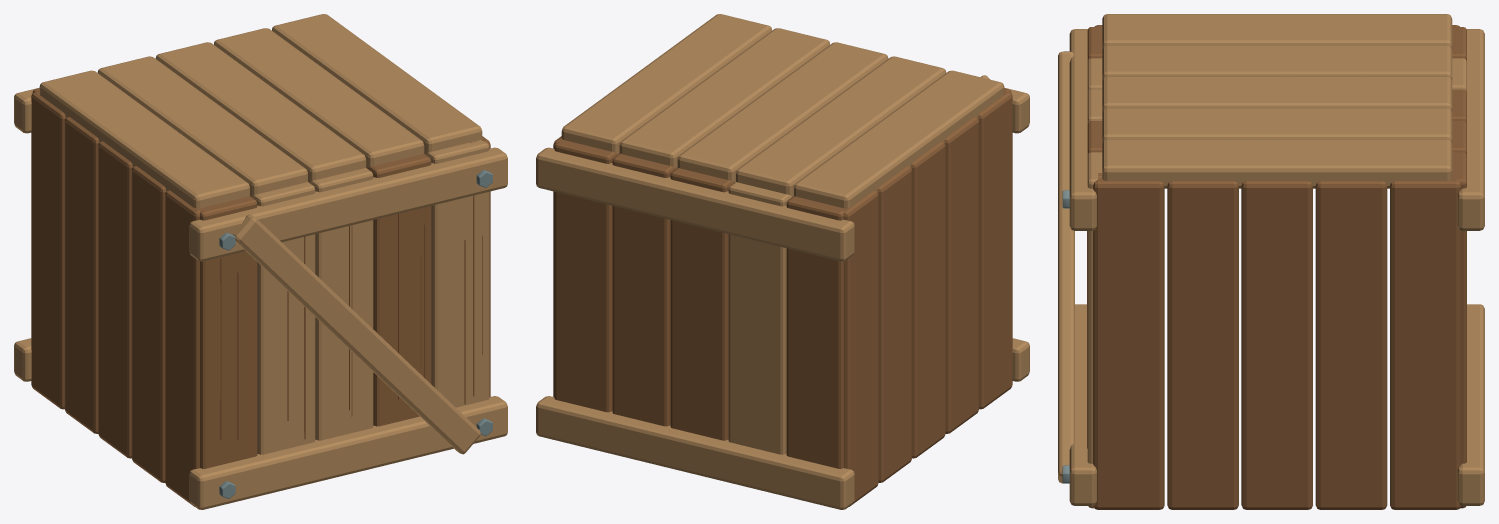
The model's file is SM_WoodCrate_090.fbx.
3 renders of one model, left to right at view 1: azimuth 30°, elevation 25°; view 2: azimuth 150°, elevation 25°; view 3: azimuth 270°, elevation 25°, orthographic. The views are drawn at different scales.
Parts seen in each view (by area): view 1: SM_WoodCrate_090; view 2: SM_WoodCrate_090; view 3: SM_WoodCrate_090.
Part boxes in pixels (box(x1,y1,x2,y2)): SM_WoodCrate_090: box(14, 14, 507, 509); SM_WoodCrate_090: box(536, 14, 1029, 509); SM_WoodCrate_090: box(1058, 14, 1484, 509).
Size of what is drawn, in the model's own units: 0.94 by 1.01 by 0.895.
